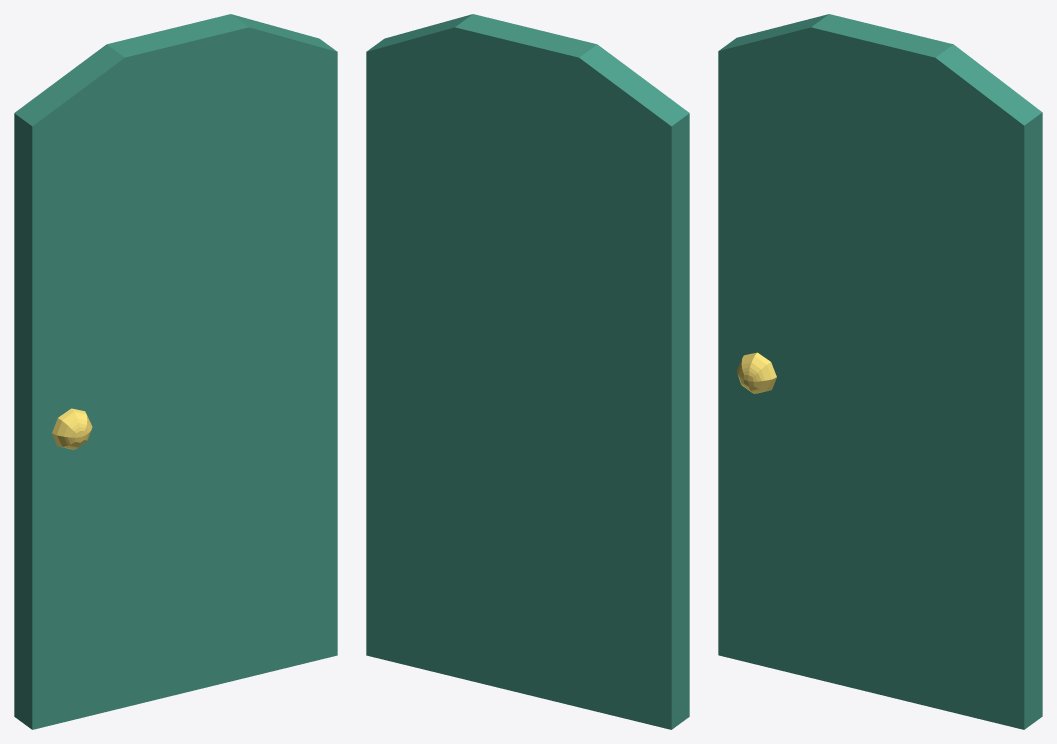
Rendered from Door_4.fbx.
The picture shows the model from 3 angles, left to right: view 1: azimuth 30°, elevation 25°; view 2: azimuth 150°, elevation 25°; view 3: azimuth 330°, elevation 25°; orthographic projection.
Parts seen in each view (by area): view 1: Door_4; view 2: Door_4; view 3: Door_4.
Boxes of the visible parts, x1,y1,x2,y2 form: Door_4: (14,14,337,729); Door_4: (366,14,689,729); Door_4: (718,14,1042,729).
Size of the model in its own units: 128 by 20.08 by 261.
